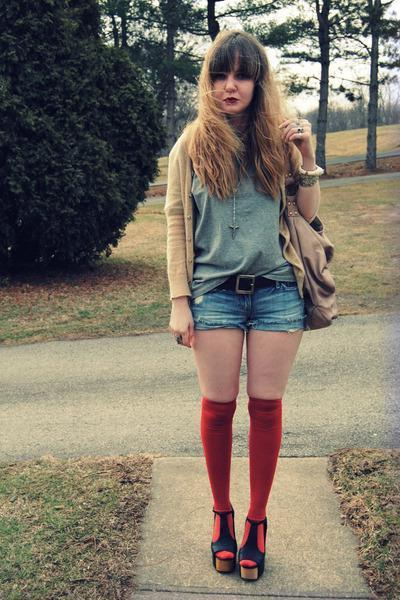Shorts: (178, 267, 308, 334)
short sleeve shirt: (188, 131, 285, 290)
sweater: (163, 109, 323, 303)
